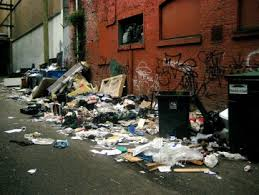garbage: (50, 75, 127, 123), (83, 101, 157, 149), (135, 136, 228, 166)
